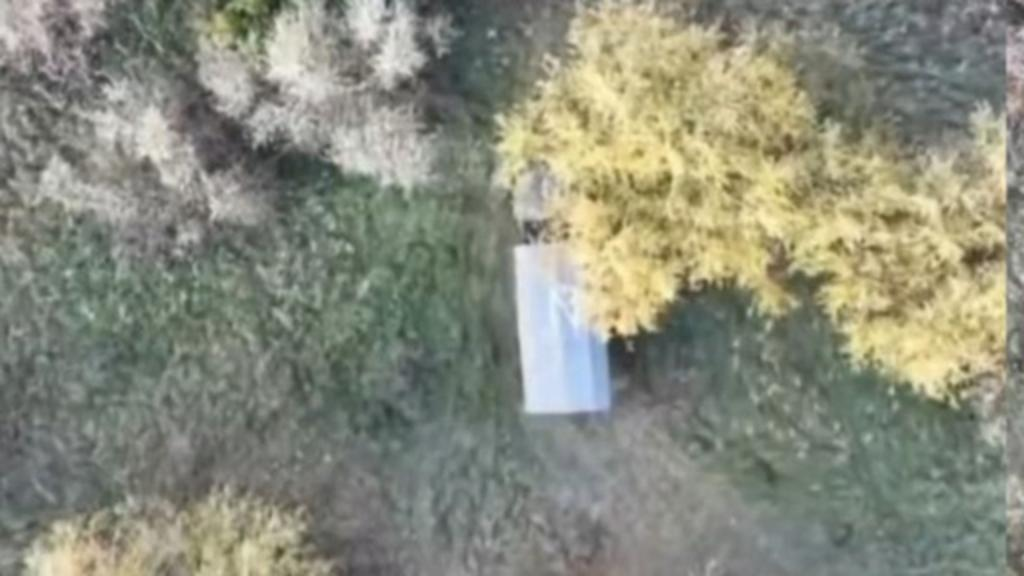TRUCK: (496, 142, 620, 424)
